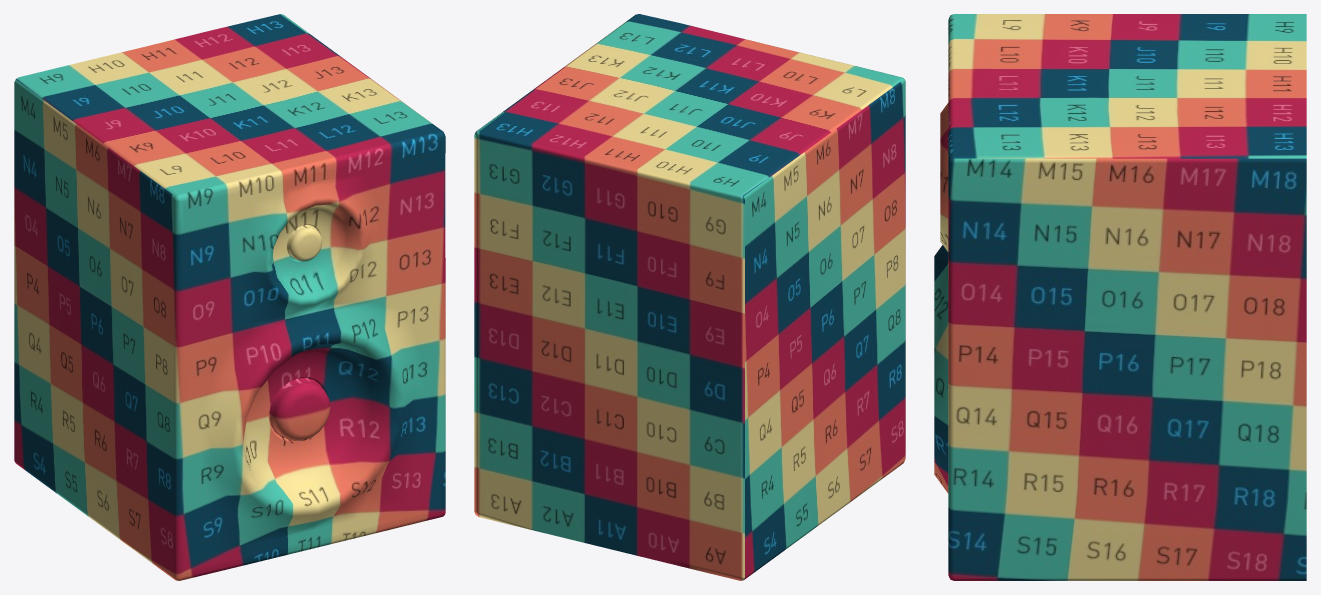
Rendered from speakers.fbx.
The picture shows the model from 3 angles, left to right: view 1: azimuth 30°, elevation 25°; view 2: azimuth 150°, elevation 25°; view 3: azimuth 270°, elevation 25°; orthographic projection. The views are drawn at different scales.
Visible parts, largest first — view 1: speakers1; view 2: speakers1; view 3: speakers1.
Part boxes in pixels (x1=…): speakers1: x1=14, y1=14, x2=445, y2=580; speakers1: x1=474, y1=14, x2=905, y2=580; speakers1: x1=934, y1=14, x2=1306, y2=580.
Size of the model in its own units: 16.85 by 22.99 by 18.21.
